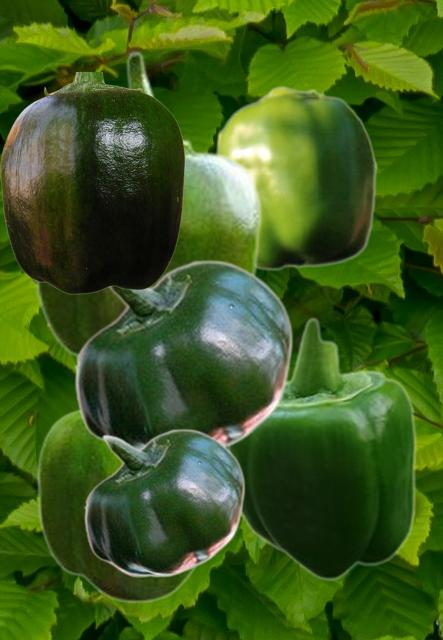bell_pepper: (32, 50, 262, 358), (230, 316, 416, 581), (73, 259, 292, 449), (0, 72, 184, 293), (36, 407, 197, 603), (215, 85, 376, 270), (83, 428, 244, 576)
